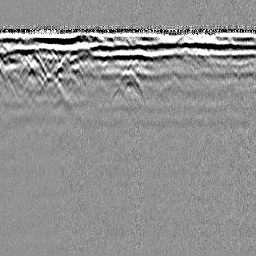cavity: (109, 65, 146, 102)
